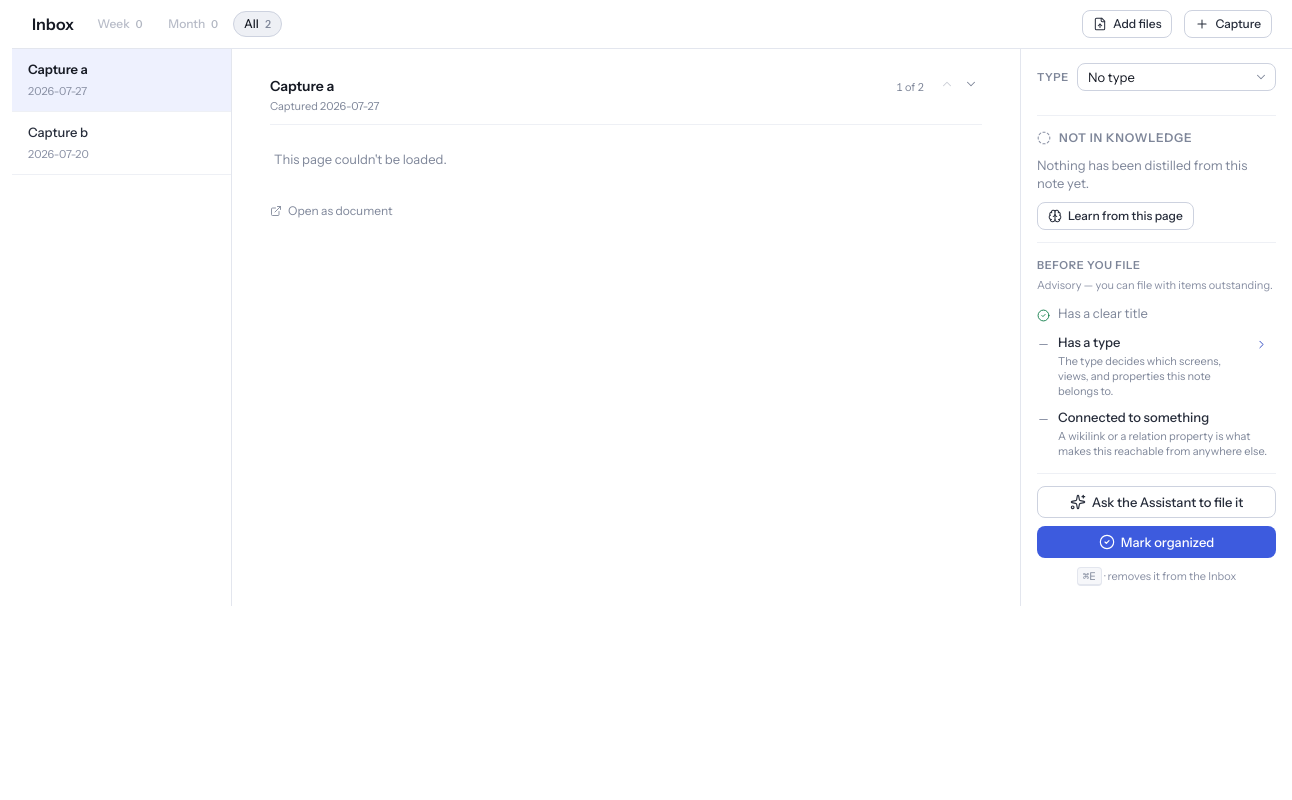
Test: InboxPage › writes _organized when the note is marked organized
Click the button "Mark organized" at (1156, 542), box 1037,526 -> 1276,558
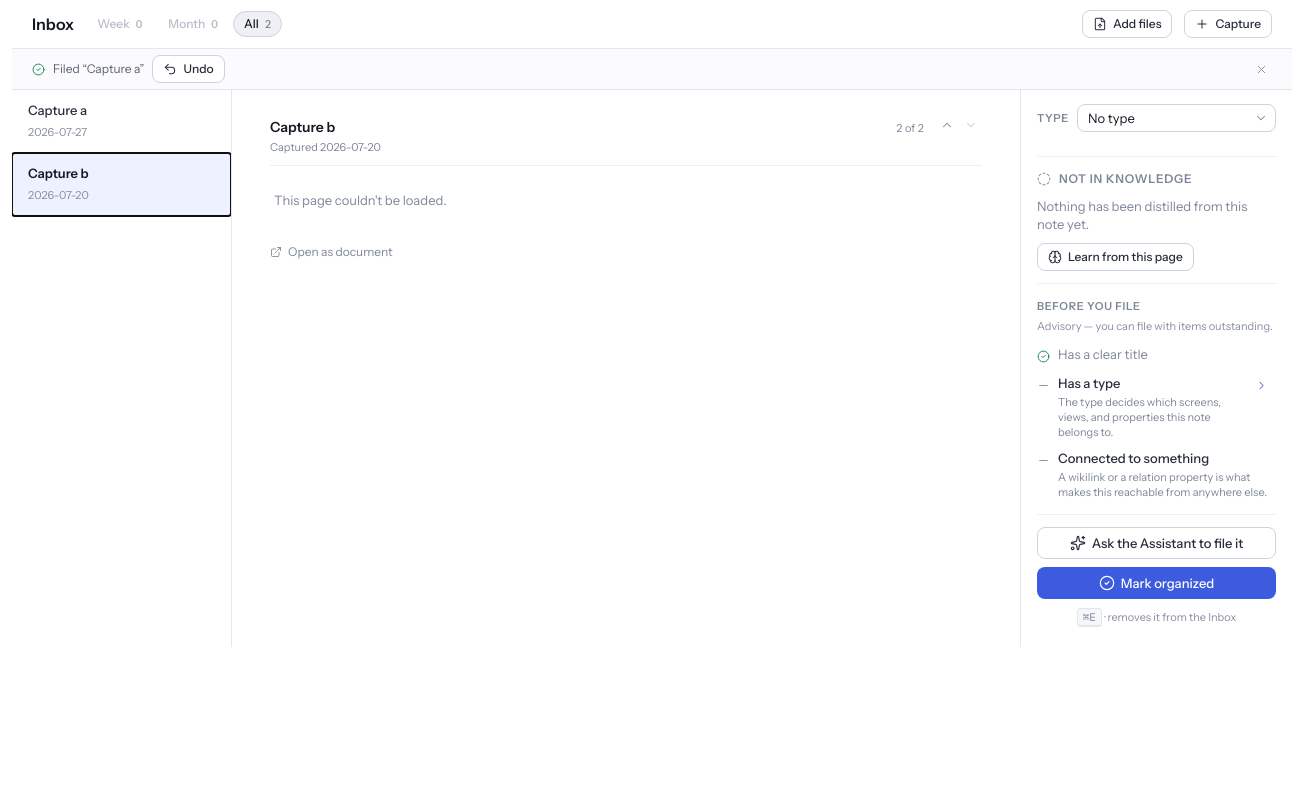
Expected: the element with test id "inbox-undo" is shown, 12,49 -> 1291,90
